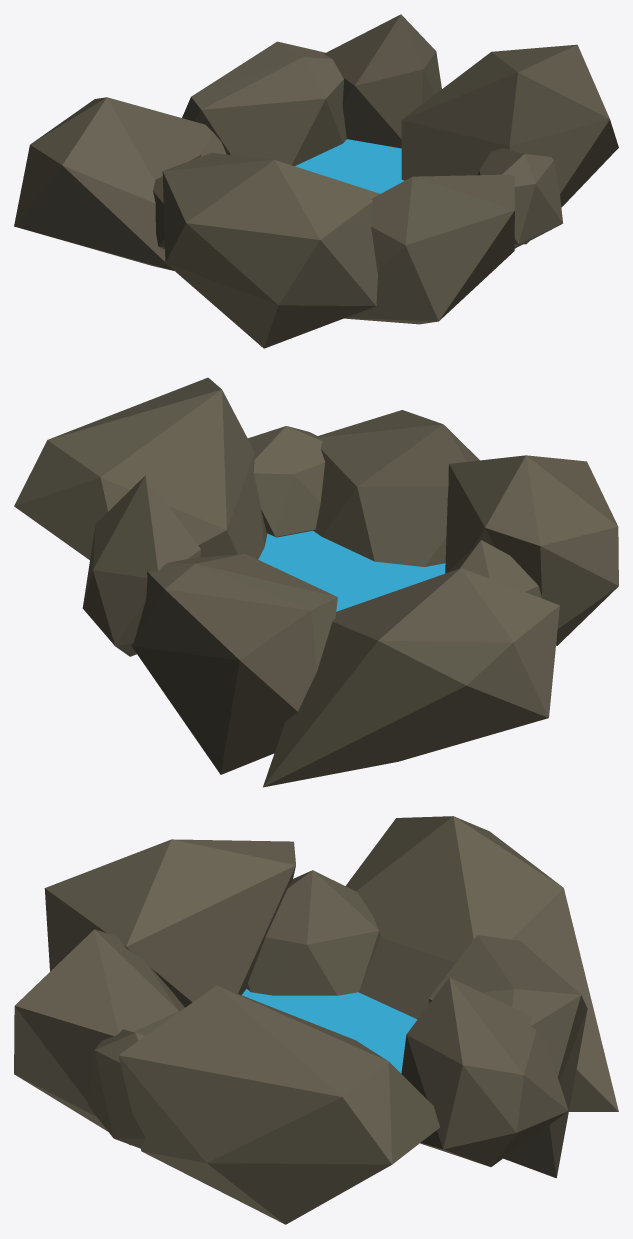
Rendered from WaterSource.fbx.
3 views of the same model, one above another, from view 1: azimuth 30°, elevation 25°; view 2: azimuth 150°, elevation 25°; view 3: azimuth 270°, elevation 25° (orthographic). The views are drawn at different scales.
Parts seen in each view (by area): view 1: Cylinder; view 2: Cylinder; view 3: Cylinder.
Part boxes in pixels (x1=…): Cylinder: x1=14, y1=14, x2=618, y2=348; Cylinder: x1=14, y1=377, x2=618, y2=787; Cylinder: x1=14, y1=816, x2=618, y2=1224.
Size of the model in its own units: 350 by 142 by 283.
